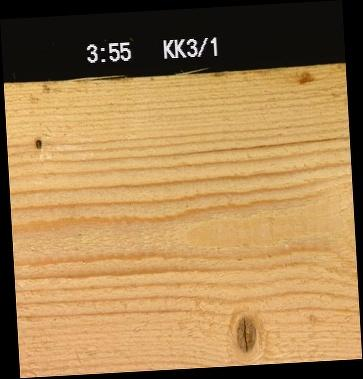dry_knot: (33, 137, 42, 148)
sound_knot: (233, 314, 258, 351)
